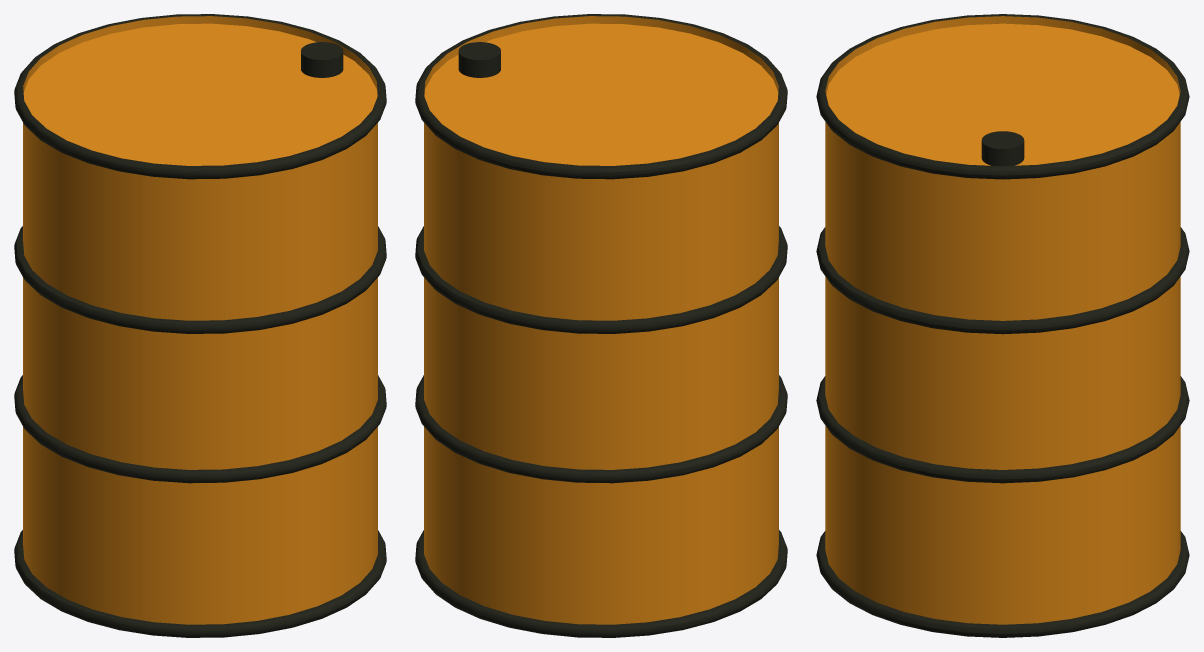
The model's file is Barrel.fbx.
3 renders of one model, left to right at view 1: azimuth 30°, elevation 25°; view 2: azimuth 150°, elevation 25°; view 3: azimuth 270°, elevation 25°, orthographic.
Parts seen in each view (by area): view 1: Cylinder; view 2: Cylinder; view 3: Cylinder.
Boxes of the visible parts, x1=… form: Cylinder: x1=14, y1=14, x2=386, y2=637; Cylinder: x1=415, y1=14, x2=787, y2=637; Cylinder: x1=816, y1=14, x2=1189, y2=637.
Size of the model in its own units: 189 by 268 by 189.
